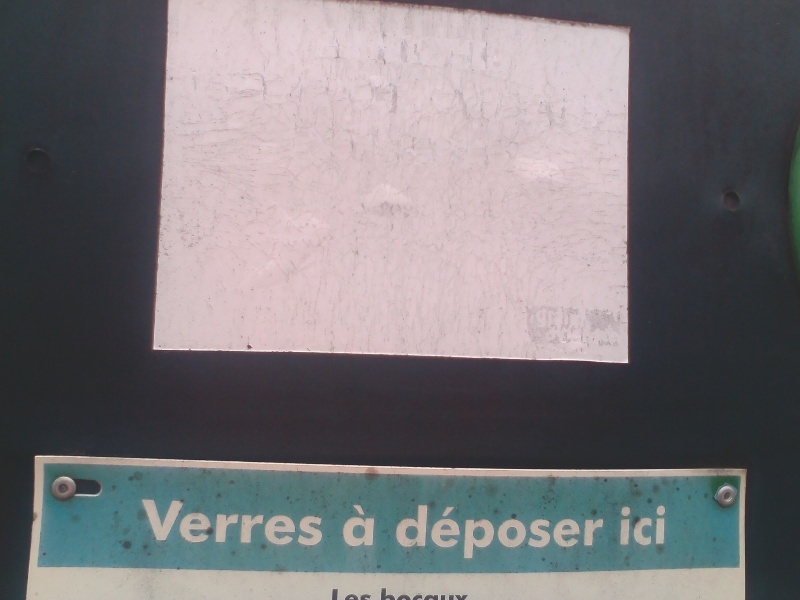text: (401, 504, 416, 560), (417, 504, 432, 560), (433, 504, 448, 560), (449, 504, 464, 560), (465, 504, 480, 560), (481, 504, 496, 560), (497, 504, 512, 560), (513, 504, 528, 560), (529, 504, 544, 560), (545, 504, 560, 560), (561, 504, 576, 560), (577, 504, 592, 560), (145, 497, 160, 550), (161, 497, 176, 550), (177, 497, 192, 550), (193, 497, 208, 550), (209, 497, 224, 550), (225, 497, 240, 550), (241, 497, 256, 550), (257, 497, 272, 550), (273, 497, 288, 550), (289, 497, 304, 550), (305, 497, 320, 550), (353, 502, 368, 549), (593, 504, 605, 560), (625, 505, 640, 547), (641, 505, 656, 547), (657, 505, 668, 547), (343, 502, 352, 549), (369, 502, 378, 549), (395, 504, 400, 560), (337, 588, 352, 600), (353, 588, 368, 600), (369, 588, 384, 600), (385, 588, 400, 600), (401, 588, 416, 600), (417, 588, 432, 600), (433, 588, 448, 600), (449, 588, 464, 600), (141, 497, 144, 550), (321, 497, 324, 550), (325, 588, 336, 600), (621, 505, 624, 547), (465, 588, 470, 600)
